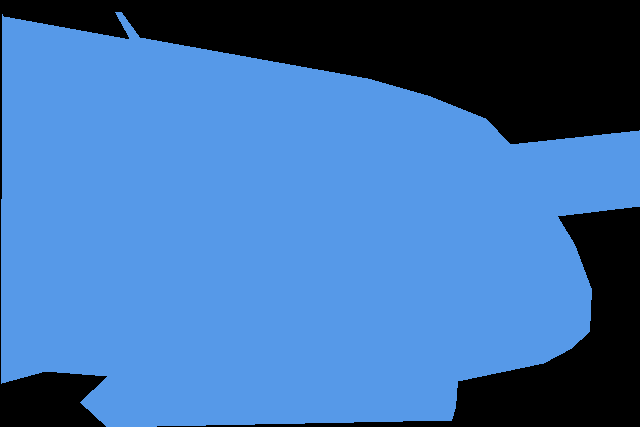Airplane: (1, 12, 639, 427)
